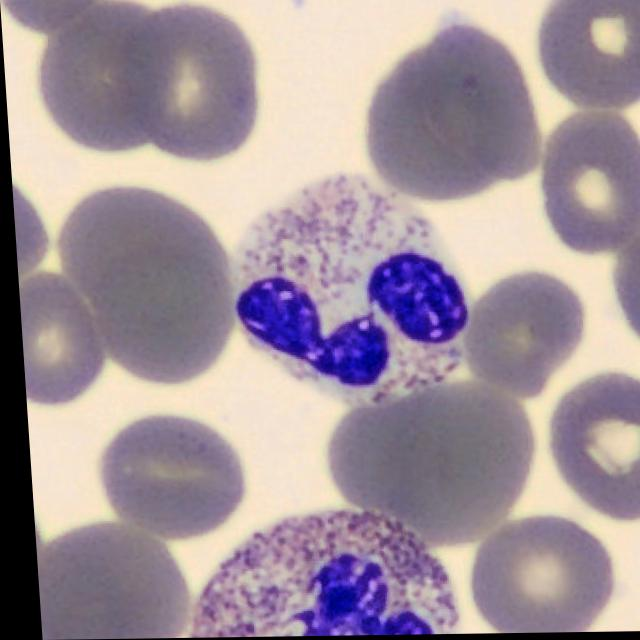Neutrofilo segmentado: (227, 175, 465, 411)
